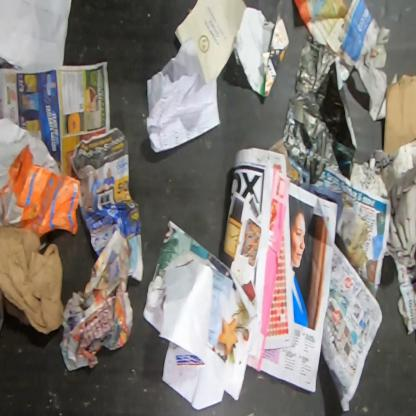cardboard: (382, 74, 416, 156)
